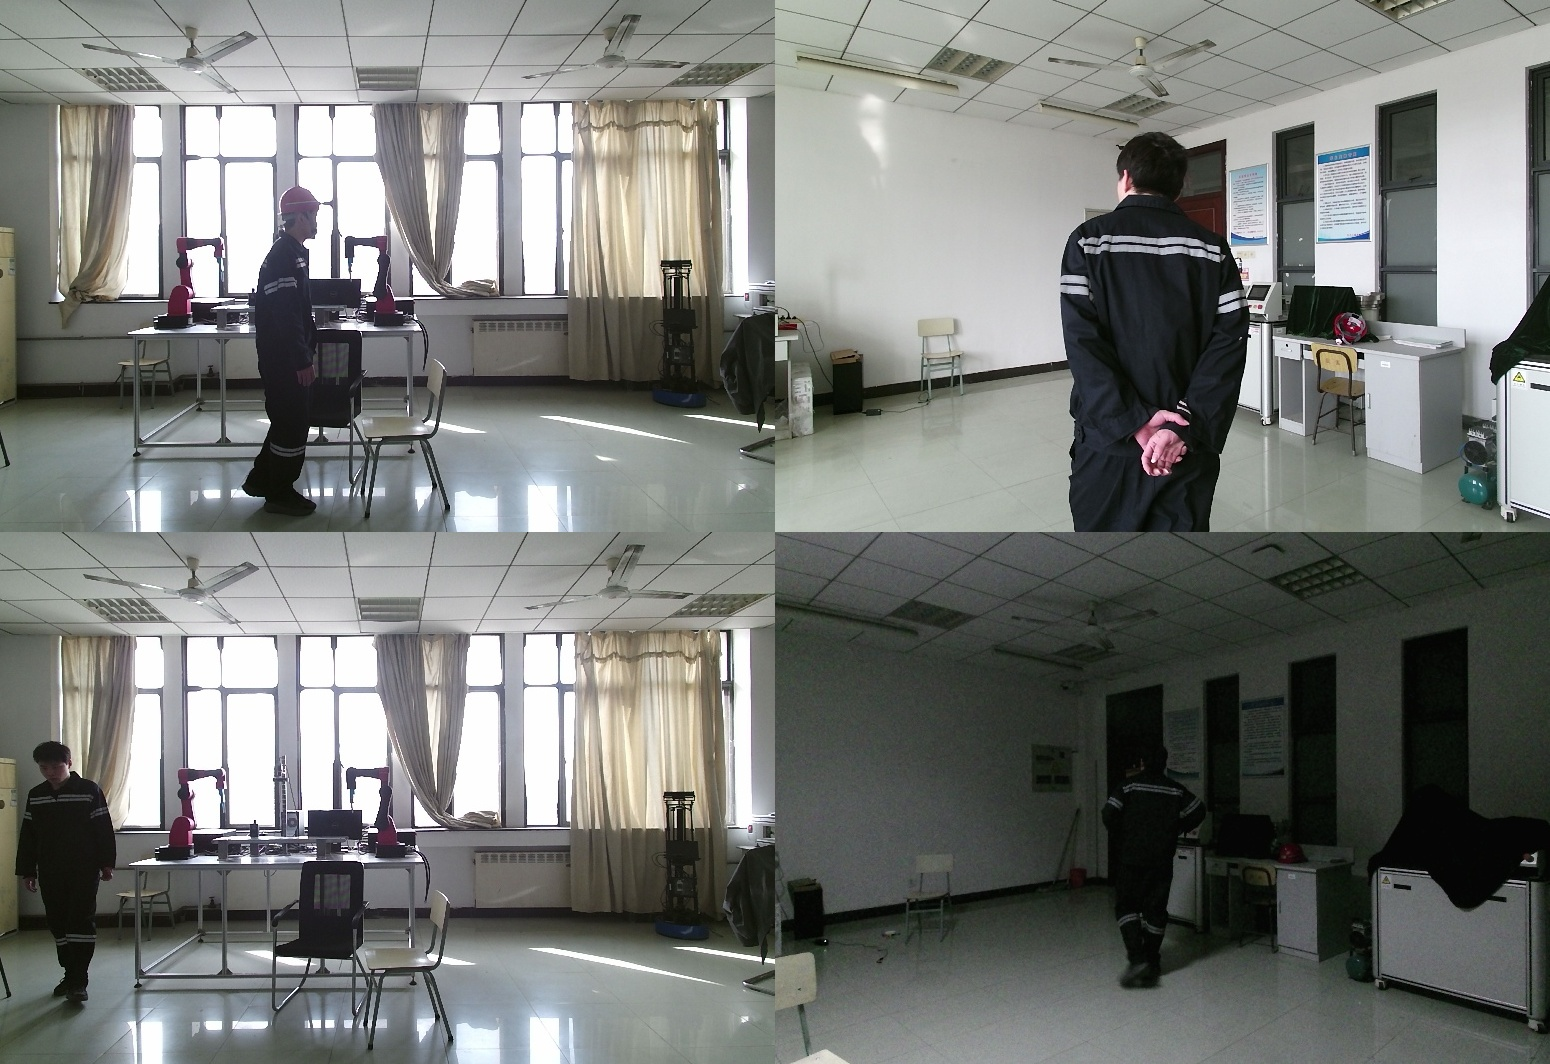person: (1063, 132, 1269, 532), (248, 188, 338, 513), (1105, 742, 1213, 995), (16, 741, 120, 997)
